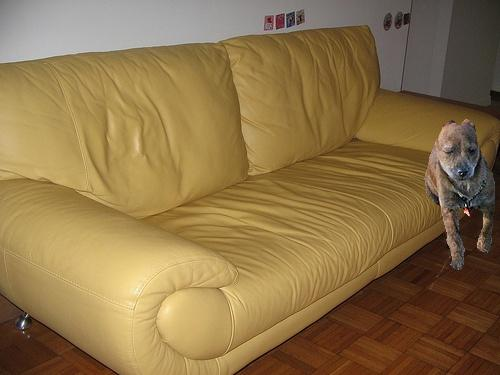tampered: (425, 120, 495, 270)
